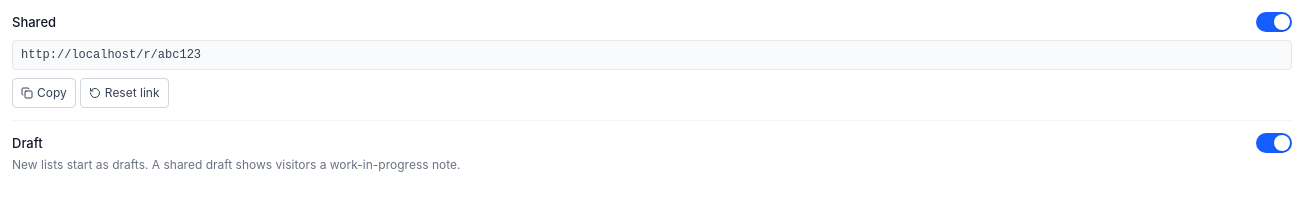
PrivacyPanel - resetting the share link › canceling leaves the link alone
The image size is (1304, 221).
Click the button "Reset link". click: [124, 93]
box: [80,78,168,108]
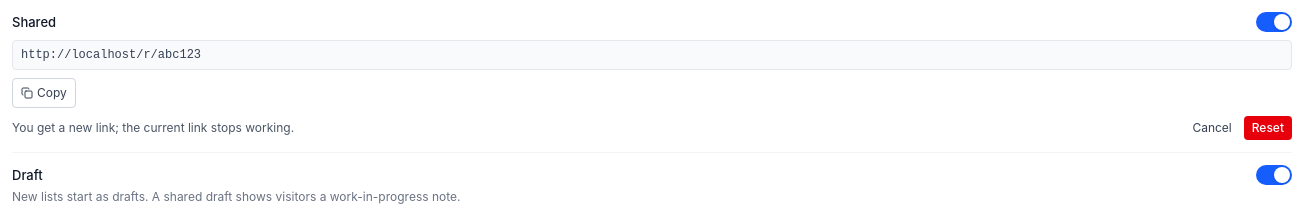
Click the button "Cancel". click: [1212, 128]
box: [1184,116,1240,140]
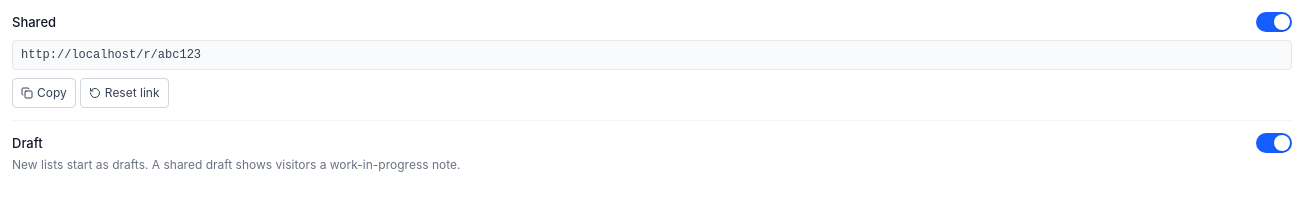
Now the button "Reset link" is shown, box [80,78,168,108]
